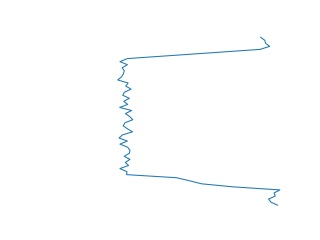distributaryChannelFill: (114, 38, 286, 206)
